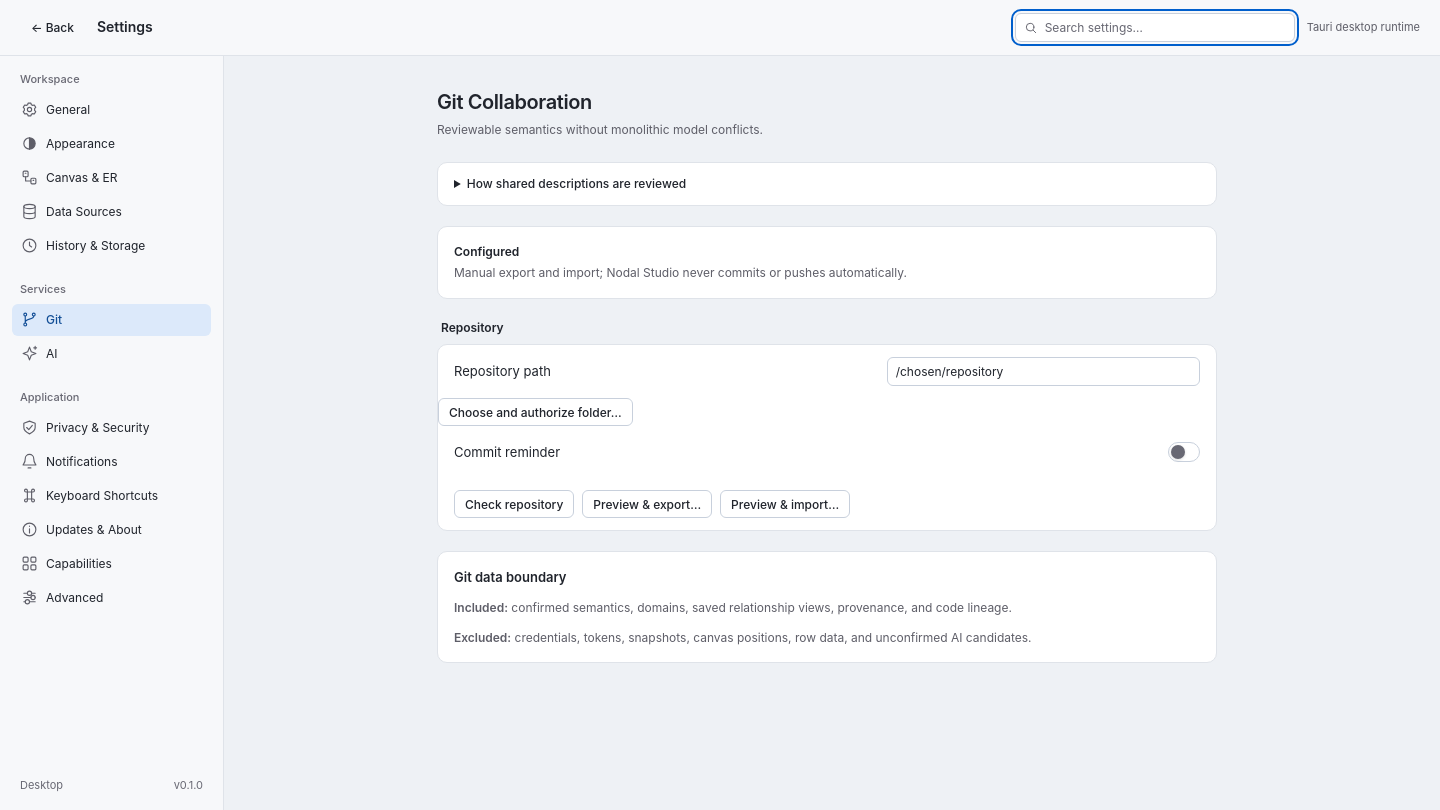
Test: checks MAS model files without offering an external merge driver installer
The width and height of the screenshot is (1440, 810).
Click the button "Check repository": click(514, 504) left=454, top=490, right=574, bottom=518
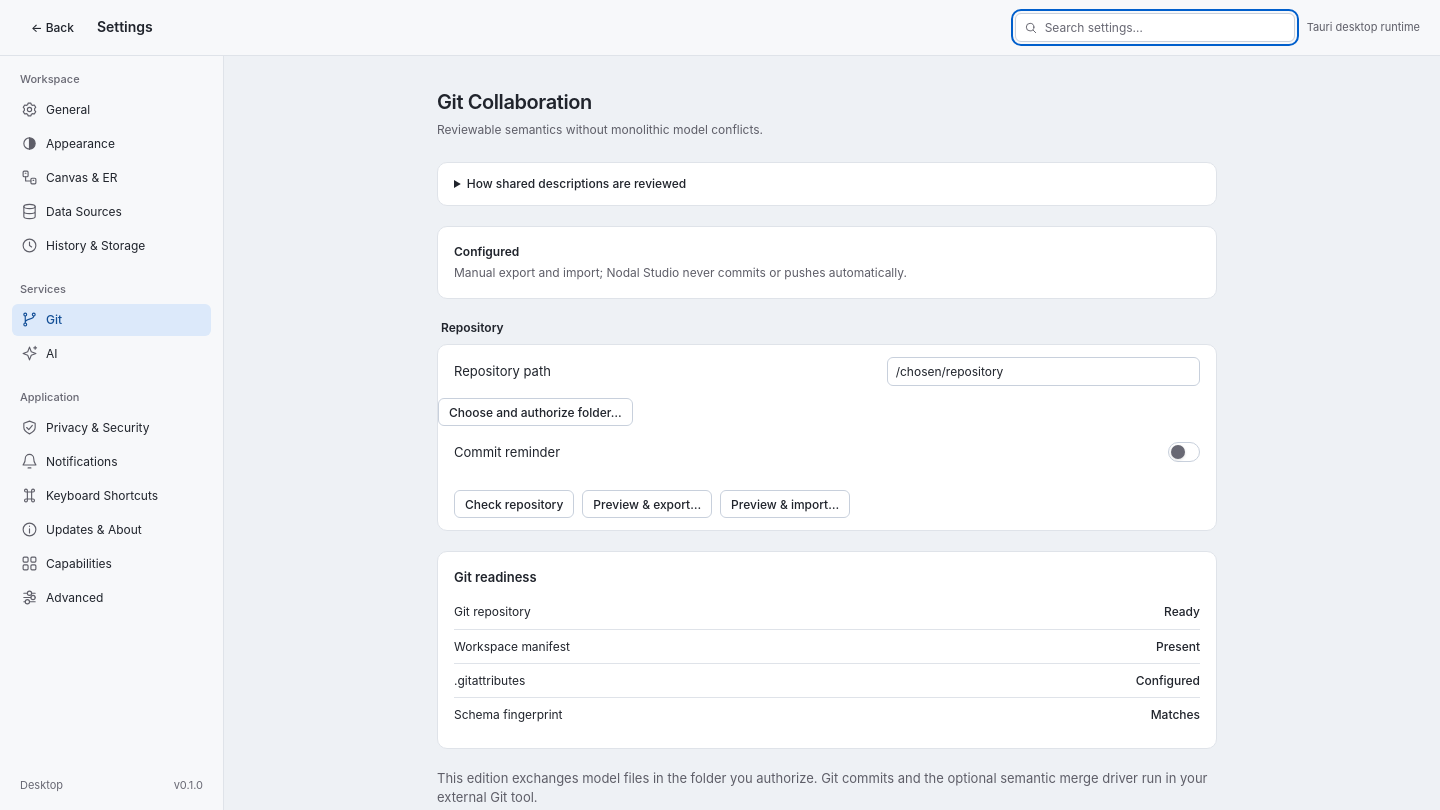
Check: the text "This edition exchanges model files" is shown, box left=437, top=770, right=1208, bottom=804
